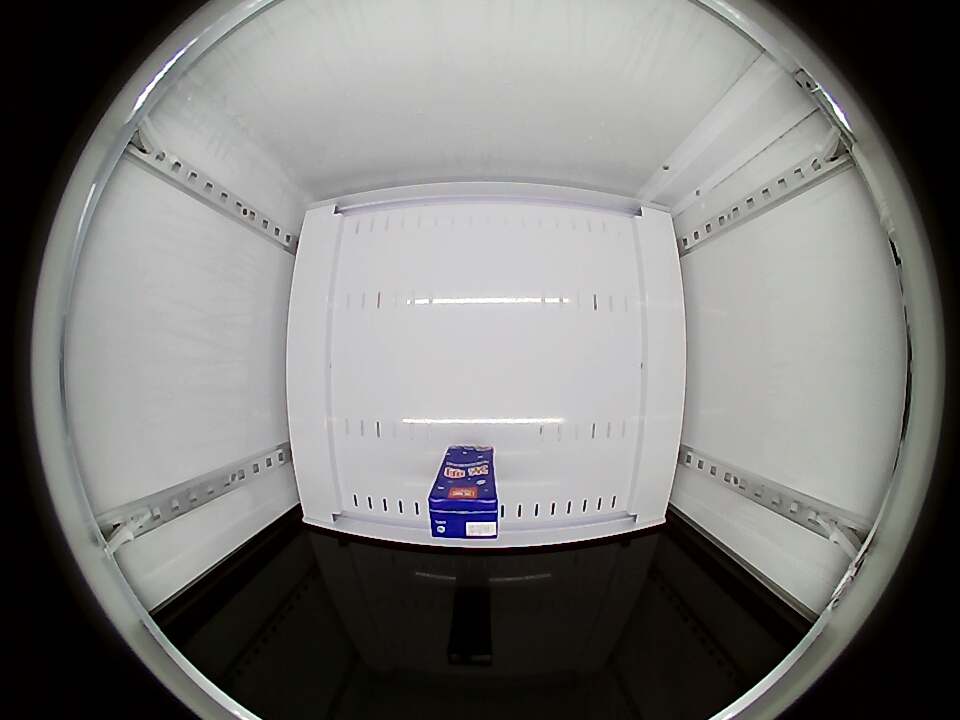bingqilinniunai: (427, 477, 501, 540)
